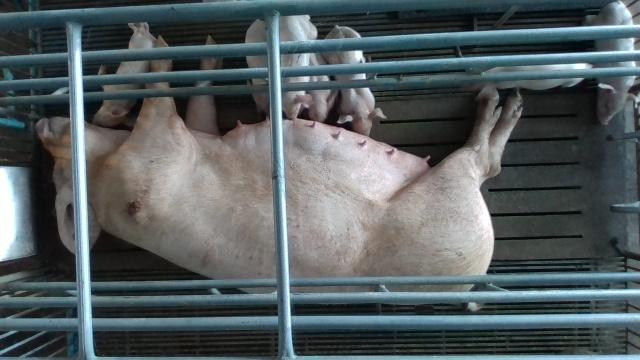piglet: (324, 25, 388, 135), (93, 22, 156, 126), (585, 0, 636, 125), (471, 62, 592, 98), (282, 16, 318, 119), (297, 52, 339, 119), (246, 19, 269, 114)
sow-sleep-lactate: (33, 34, 524, 313)
